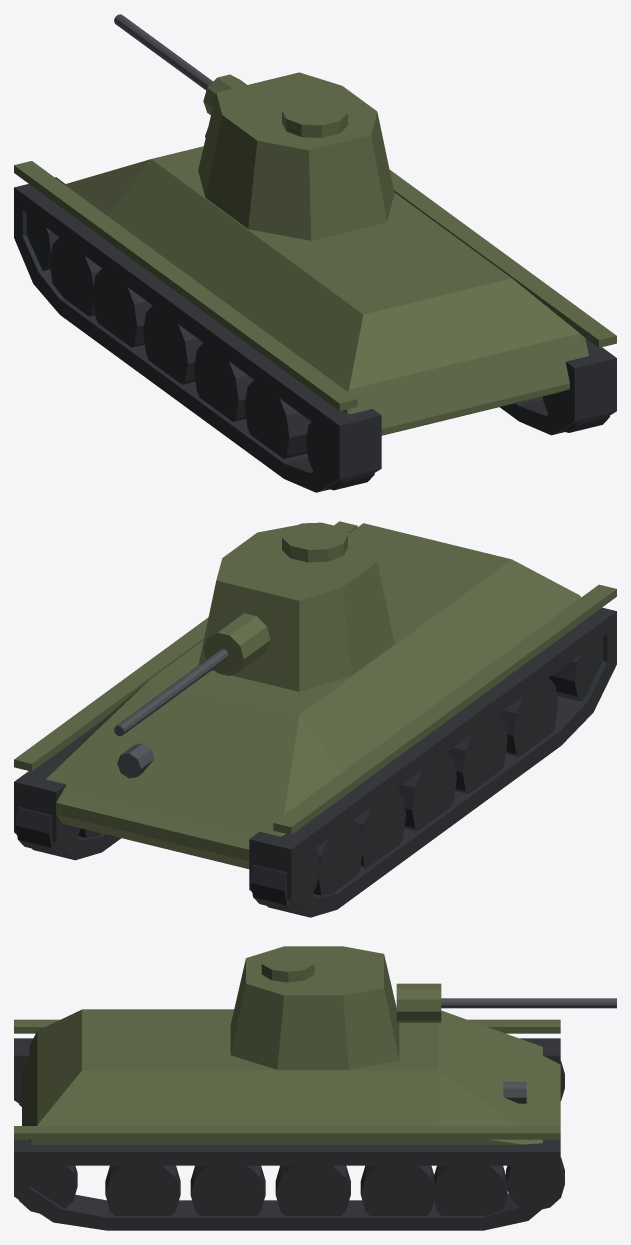
The picture shows the model from 3 angles, top to bottom: view 1: azimuth 30°, elevation 25°; view 2: azimuth 150°, elevation 25°; view 3: azimuth 270°, elevation 25°; orthographic projection. The views are drawn at different scales.
Parts seen in each view (by area): view 1: T34_Hull, T34_Turret, T34_Track_L, T34_Fender_L, T34_Track_R, T34_Fender_R, T34_Wheel_L0, T34_Wheel_L3, T34_Wheel_L1, T34_Wheel_L2, T34_Wheel_L4, T34_Cupola (+5 smaller); view 2: T34_Hull, T34_Turret, T34_Track_L, T34_Fender_L, T34_Fender_R, T34_Track_R, T34_Wheel_L2, T34_Wheel_L0, T34_Wheel_L1, T34_Mantlet, T34_Wheel_L3, T34_Wheel_L4 (+6 smaller); view 3: T34_Hull, T34_Track_R, T34_Turret, T34_Fender_R, T34_Wheel_R0, T34_Wheel_R2, T34_Wheel_R1, T34_Wheel_R3, T34_Wheel_R4, T34_Gun, T34_Mantlet, T34_Sprocket_R (+5 smaller).
Part boxes in pixels (<box>): T34_Hull: <box>64,146,588,435</box>; T34_Turret: <box>198,72,394,240</box>; T34_Track_L: <box>14,177,381,492</box>; T34_Fender_L: <box>14,161,357,411</box>; T34_Track_R: <box>500,338,616,435</box>; T34_Fender_R: <box>389,170,616,347</box>; T34_Wheel_L0: <box>244,380,311,458</box>; T34_Wheel_L3: <box>92,268,152,347</box>; T34_Wheel_L1: <box>194,343,253,421</box>; T34_Wheel_L2: <box>143,306,203,384</box>; T34_Wheel_L4: <box>49,237,101,316</box>; T34_Cupola: <box>282,98,347,137</box>; T34_Hull: <box>46,523,581,868</box>; T34_Turret: <box>198,523,394,691</box>; T34_Track_L: <box>249,607,616,917</box>; T34_Fender_L: <box>273,584,616,834</box>; T34_Fender_R: <box>14,521,357,771</box>; T34_Track_R: <box>14,719,120,860</box>; T34_Wheel_L2: <box>396,752,456,831</box>; T34_Wheel_L0: <box>498,678,558,756</box>; T34_Wheel_L1: <box>447,715,507,793</box>; T34_Mantlet: <box>203,613,270,675</box>; T34_Wheel_L3: <box>354,789,406,868</box>; T34_Wheel_L4: <box>313,820,362,895</box>; T34_Hull: <box>22,1009,560,1144</box>; T34_Track_R: <box>14,1139,560,1230</box>; T34_Turret: <box>230,946,399,1069</box>; T34_Fender_R: <box>14,1126,560,1139</box>; T34_Wheel_R0: <box>105,1165,180,1215</box>; T34_Wheel_R2: <box>275,1165,350,1215</box>; T34_Wheel_R1: <box>190,1165,265,1215</box>; T34_Wheel_R3: <box>360,1165,435,1215</box>; T34_Wheel_R4: <box>432,1165,507,1215</box>; T34_Gun: <box>441,998,616,1008</box>; T34_Mantlet: <box>396,983,441,1022</box>; T34_Sprocket_R: <box>19,1165,77,1213</box>.
Size of the model in its own units: 3 by 2.63 by 6.73.
